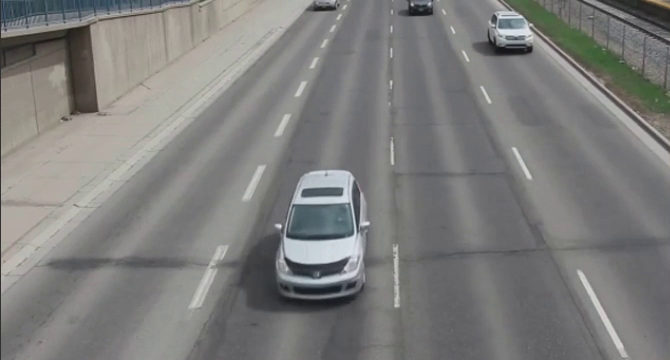car: (271, 168, 374, 312), (478, 9, 544, 56), (406, 1, 437, 15), (302, 1, 344, 9)
